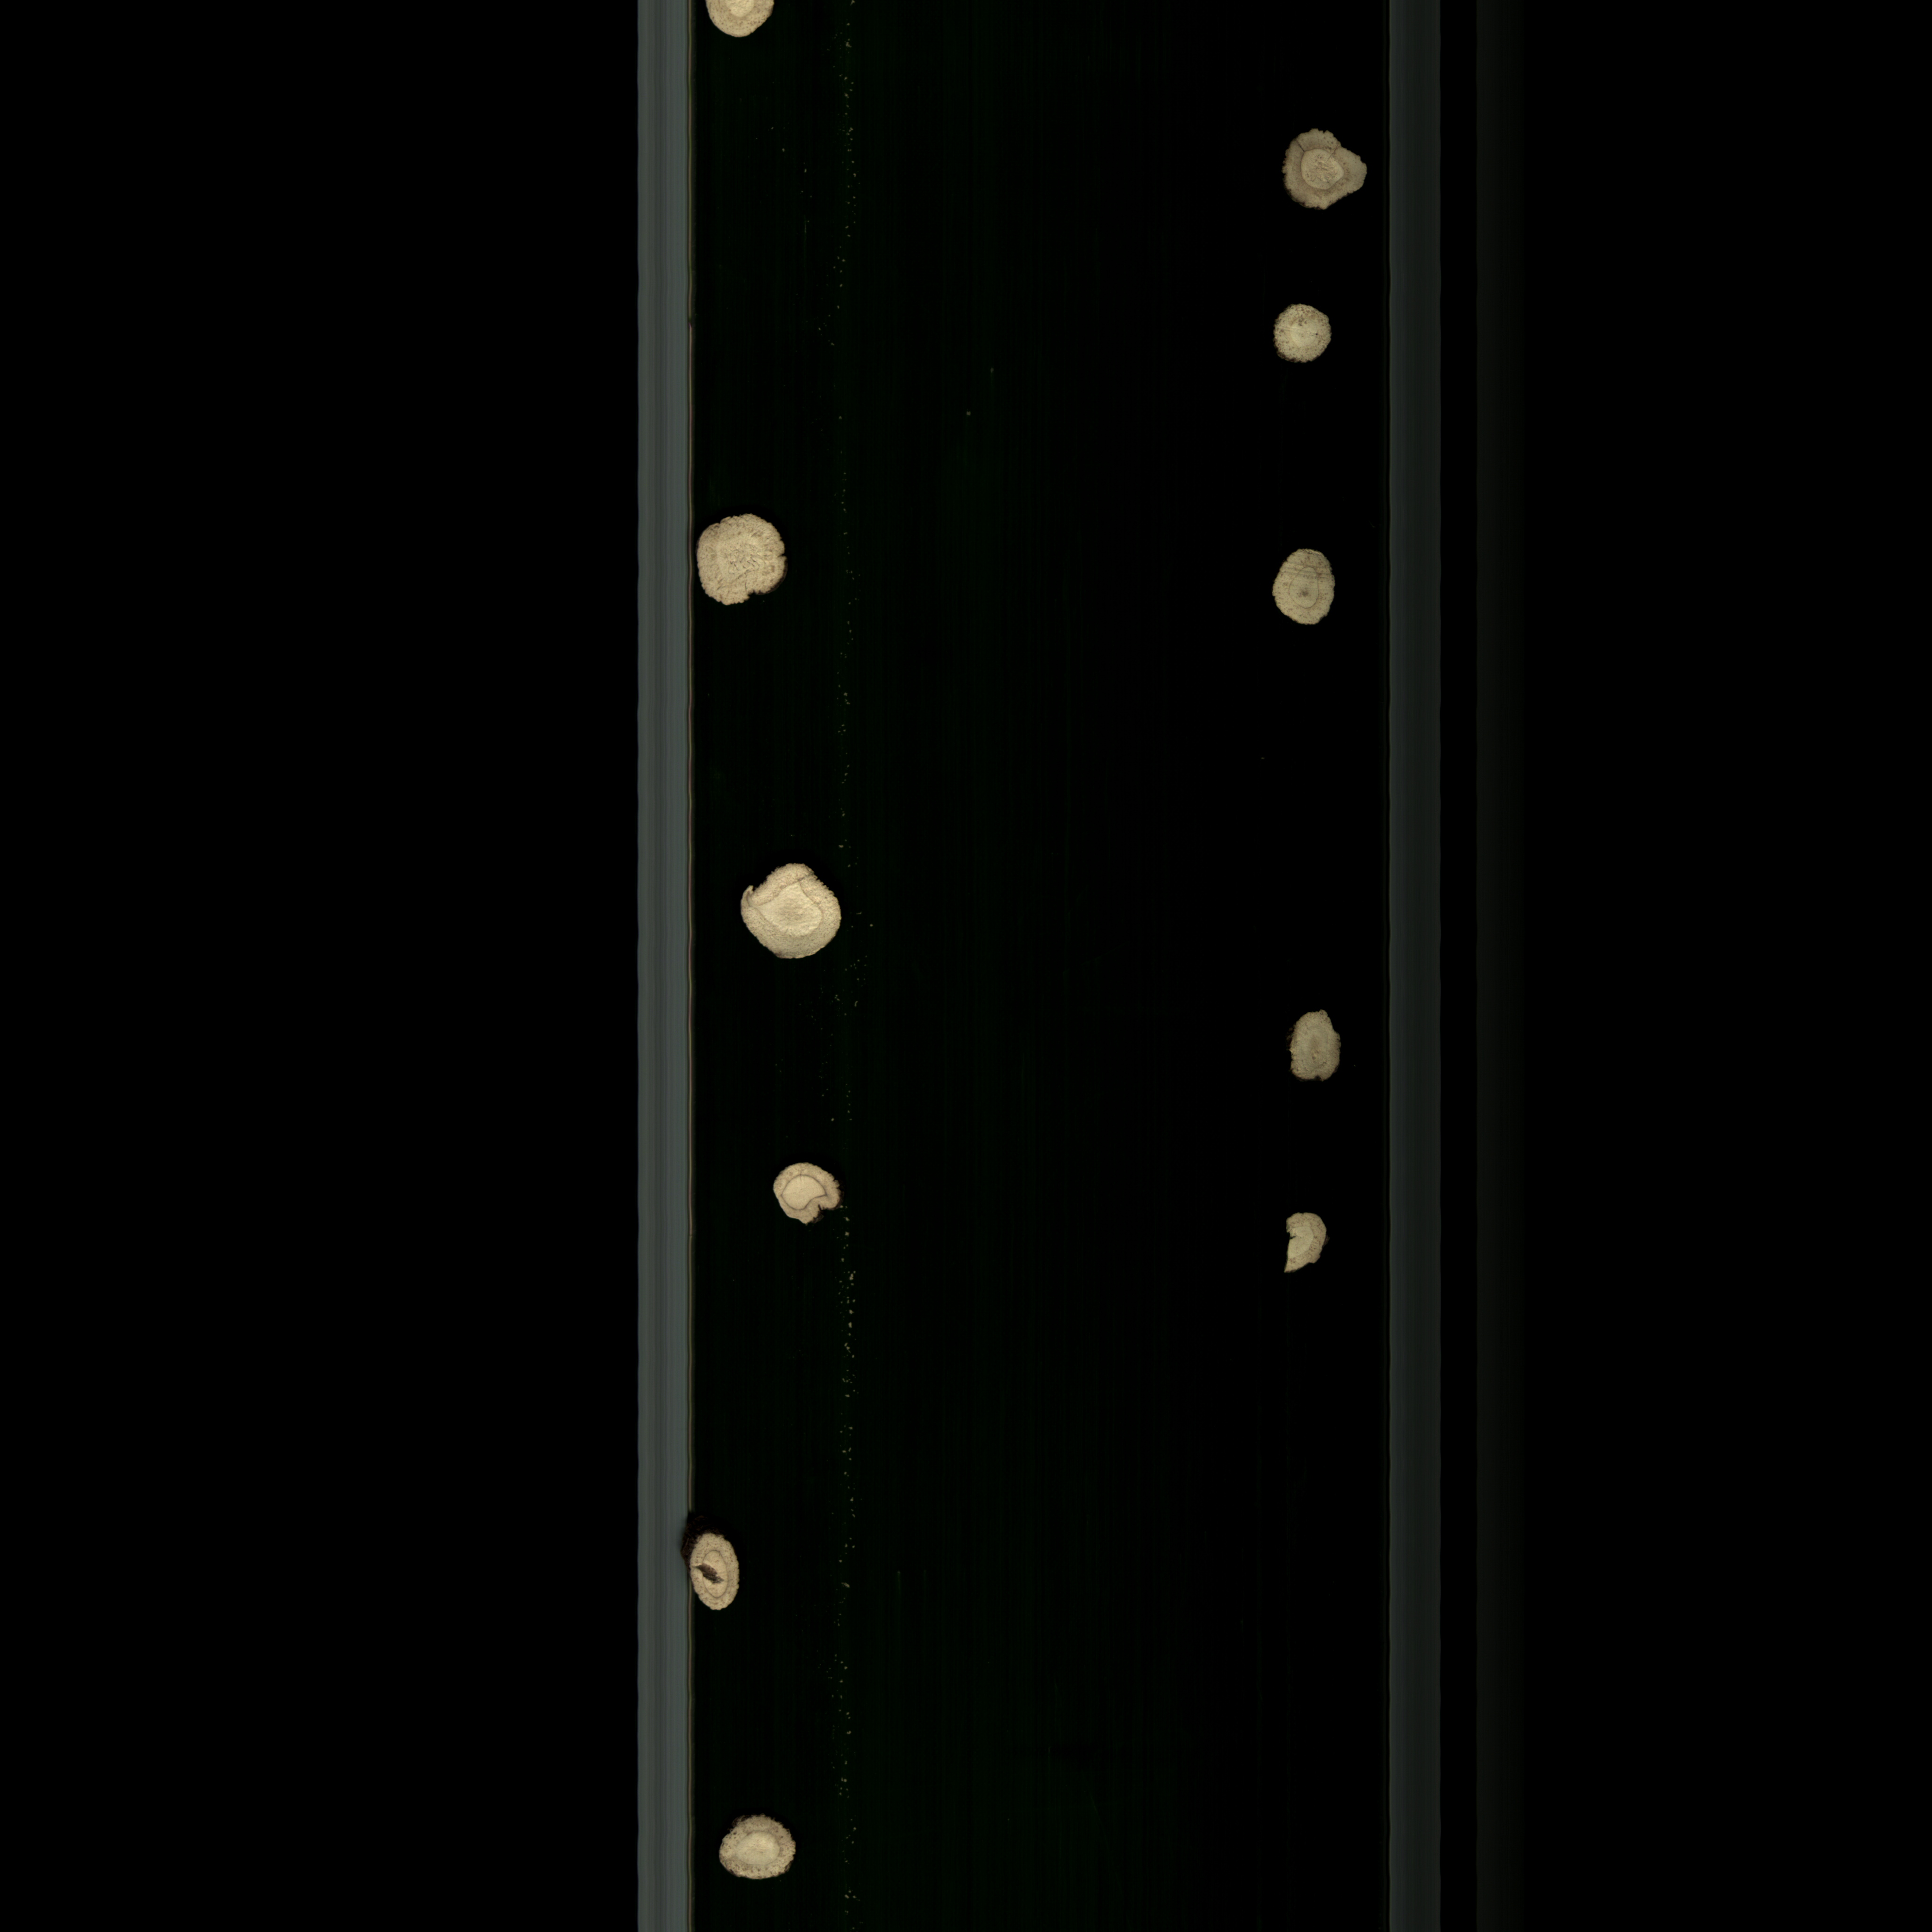debris: (1274, 1205, 1339, 1290)
distortion: (718, 855, 856, 978), (688, 511, 793, 616), (752, 1164, 858, 1228), (1288, 1003, 1352, 1086)
hole: (676, 1502, 750, 1614)
moldy: (1283, 120, 1371, 225)
